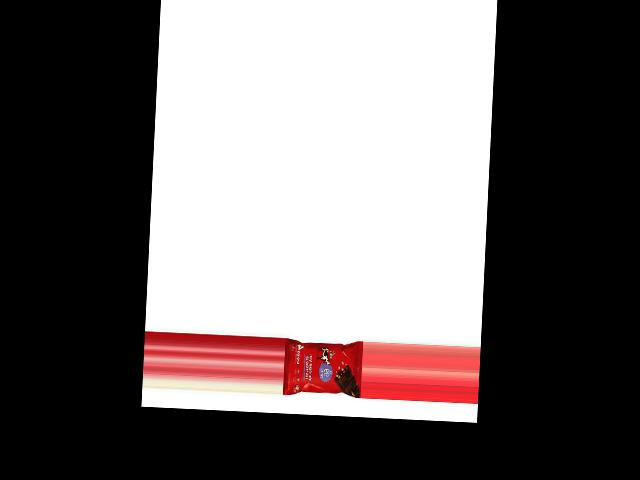chocolate: (282, 339, 362, 399)
